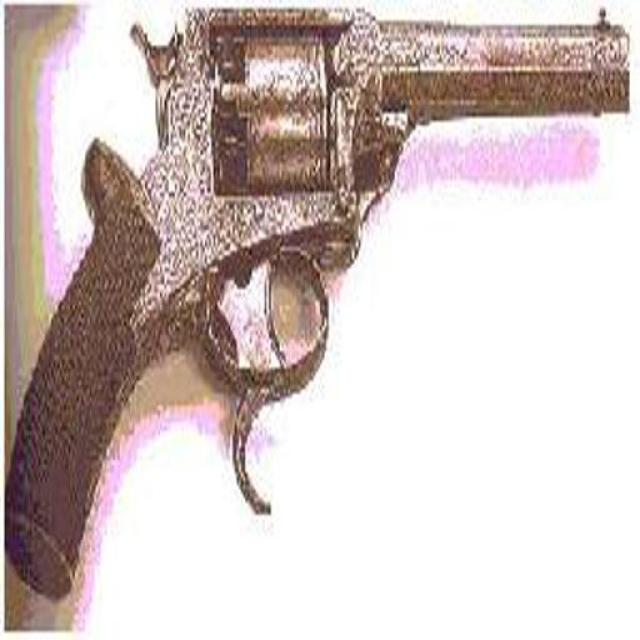pistol: (1, 4, 631, 589)
